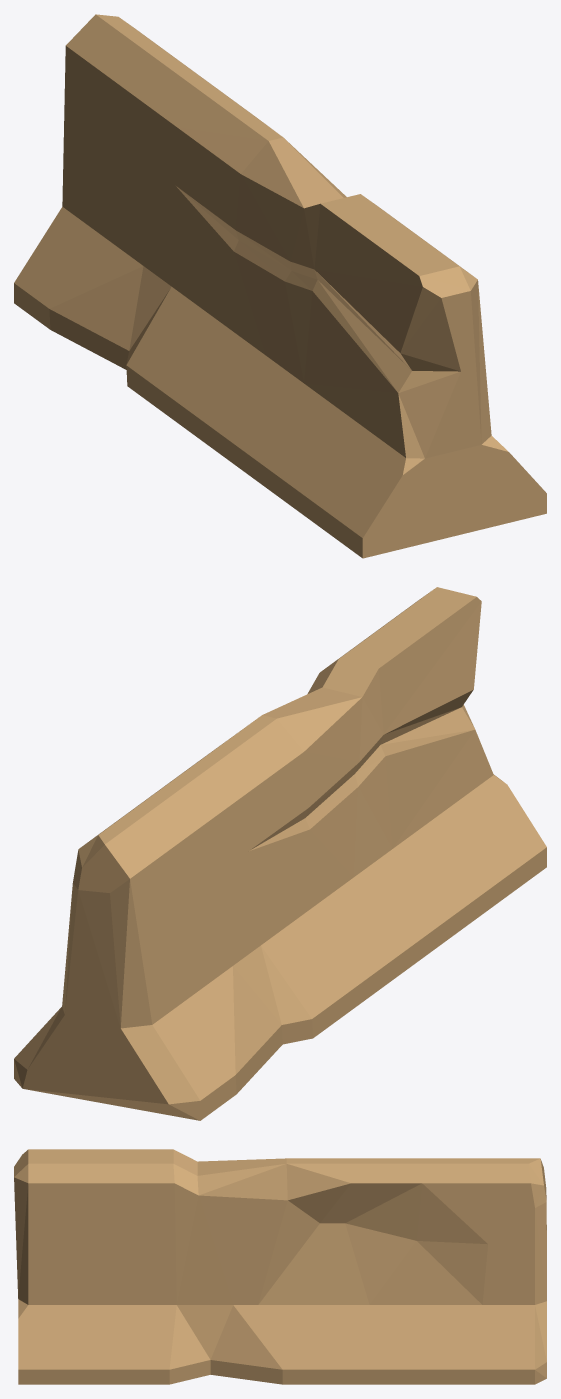
File: sm_wallstone.fbx
3 views of the same model, one above another, from view 1: azimuth 30°, elevation 25°; view 2: azimuth 150°, elevation 25°; view 3: azimuth 270°, elevation 25° (orthographic). The views are drawn at different scales.
Parts seen in each view (by area): view 1: wallstone; view 2: wallstone; view 3: wallstone.
Part boxes in pixels (left/top/right/bottom): wallstone: left=14, top=14, right=546, bottom=558; wallstone: left=14, top=587, right=546, bottom=1120; wallstone: left=14, top=1149, right=546, bottom=1384.
Bounding box in the file's own units: 65.87 × 89.5 × 225.
